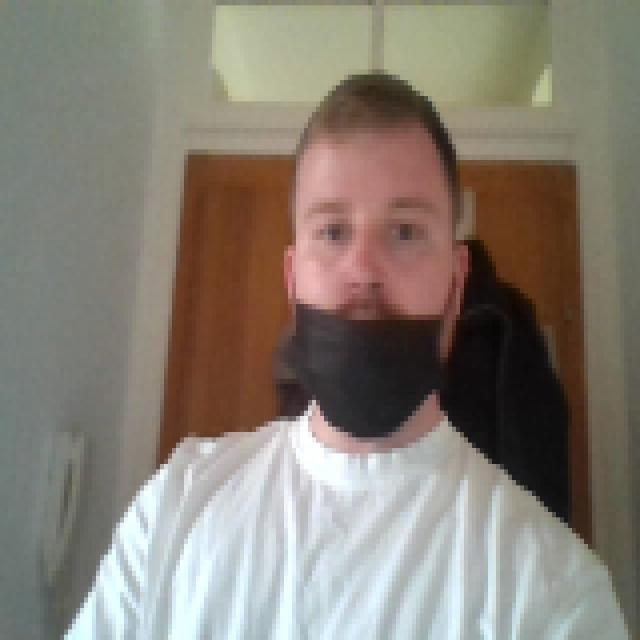hairnet: (268, 230, 480, 438)
